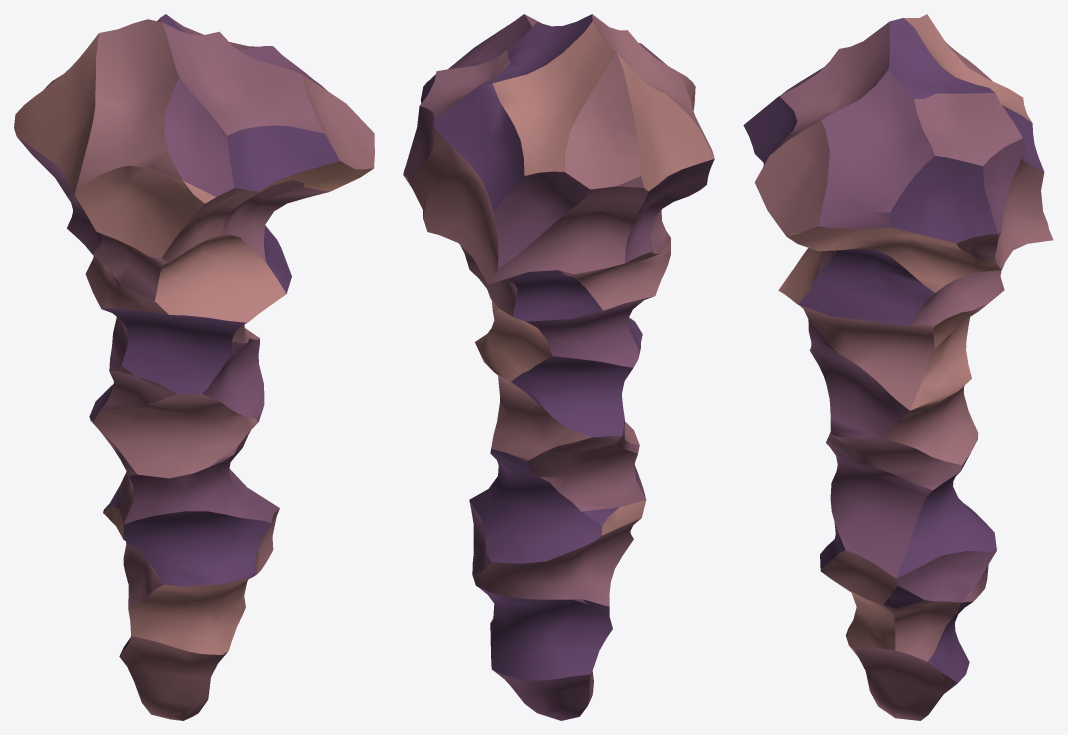
The model's file is rock2.fbx.
3 views of the same model, side by side, from view 1: azimuth 30°, elevation 25°; view 2: azimuth 150°, elevation 25°; view 3: azimuth 270°, elevation 25° (orthographic). The views are drawn at different scales.
Visible parts, largest first — view 1: Cube.004; view 2: Cube.004; view 3: Cube.004.
Boxes of the visible parts, x1,y1,x2,y2 form: Cube.004: (14, 14, 374, 720); Cube.004: (403, 14, 714, 720); Cube.004: (743, 14, 1053, 720).
Size of the model in its own units: 447 by 1078 by 441.
